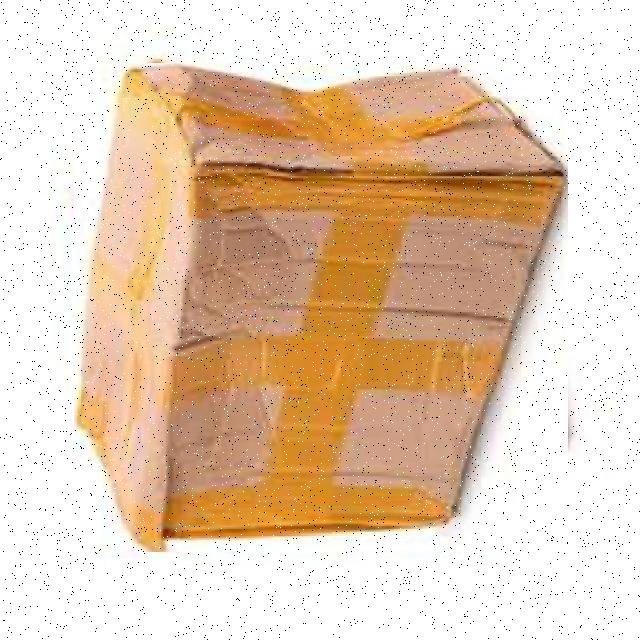normal: (74, 63, 568, 552)
